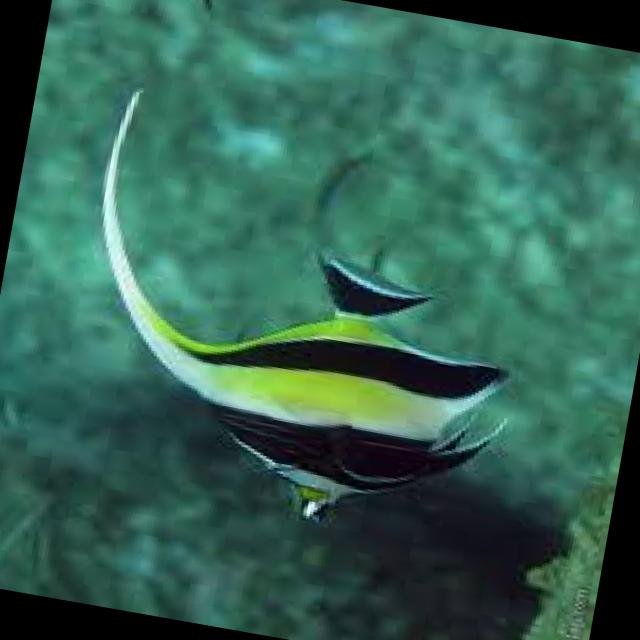MorishIdol: (44, 82, 560, 557)
